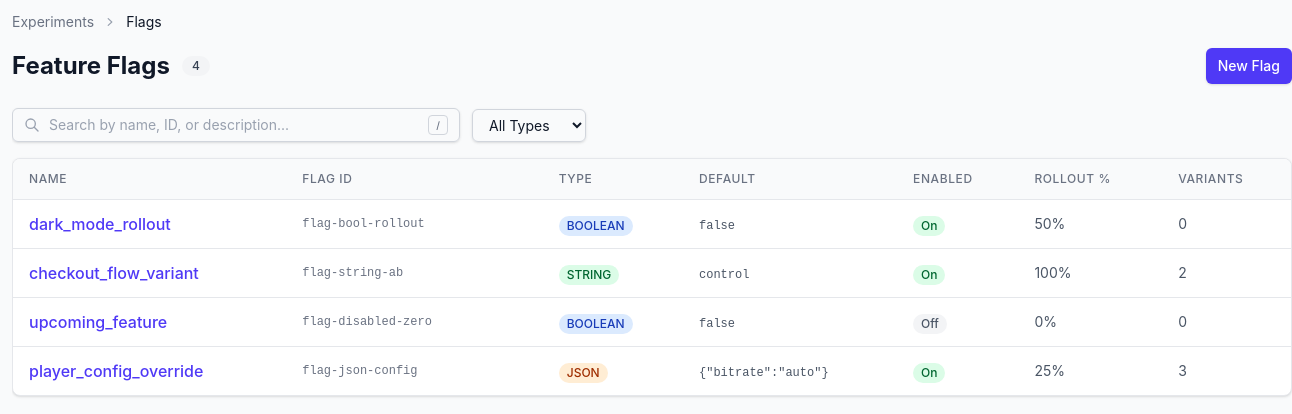
Test: Flag List Page › searches flags by name
Check: the link "dark_mode_rollout" is shown, box [29, 214, 171, 234]
Type "dark_mode" into the field with test id "flag-search" at x=236, y=125, box [12, 108, 460, 142]
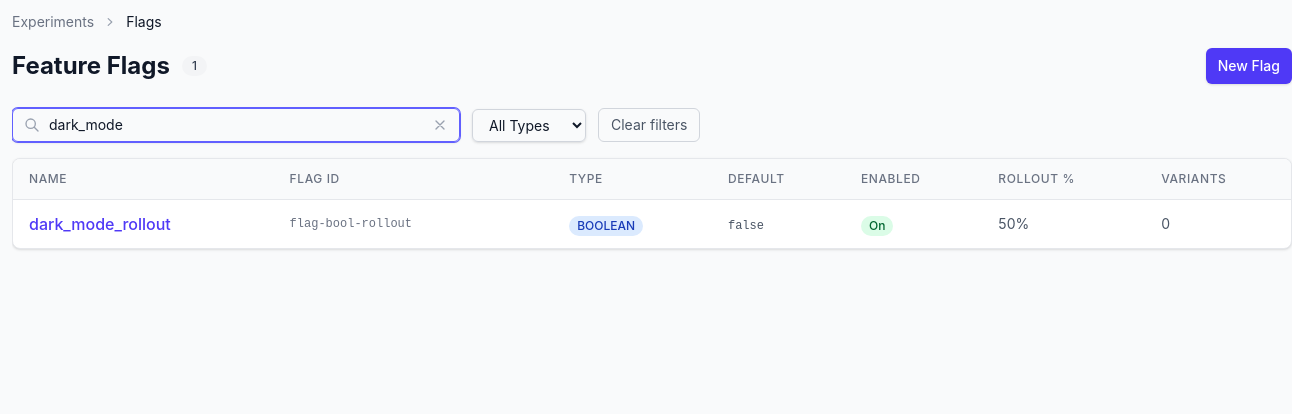
Check: the link "dark_mode_rollout" is shown, box [29, 214, 171, 234]
Check: the link "checkout_flow_variant" is gone
Check: the text with test id "flag-count" reads "1", box [192, 58, 197, 73]
